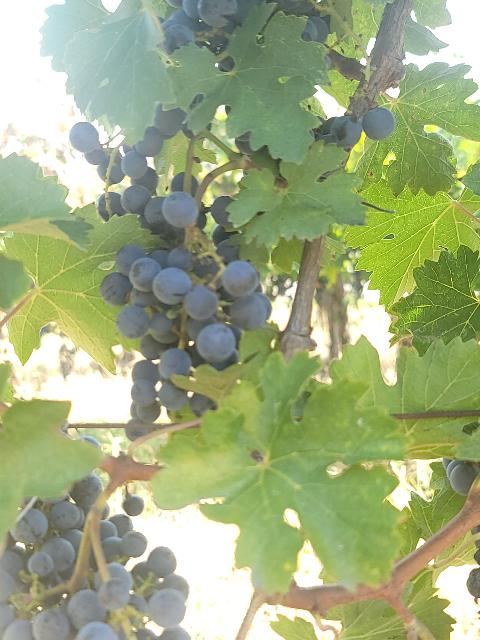grapes: (0, 472, 191, 640), (100, 245, 271, 420)
